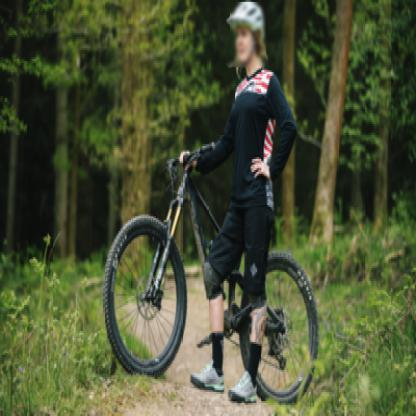With Helmet: (230, 2, 267, 68)
